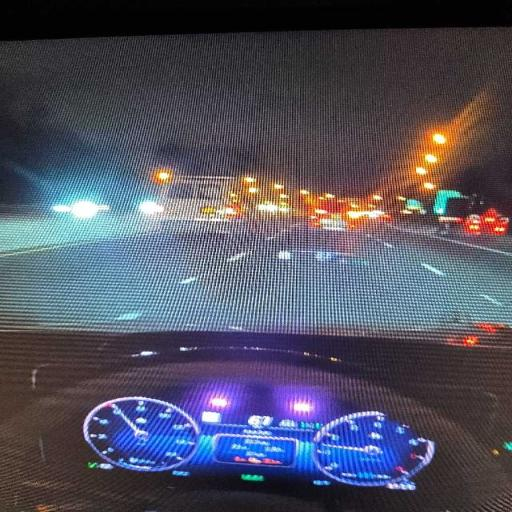lane: (0, 223, 510, 334), (208, 229, 473, 333), (0, 234, 239, 329), (372, 227, 511, 323)
